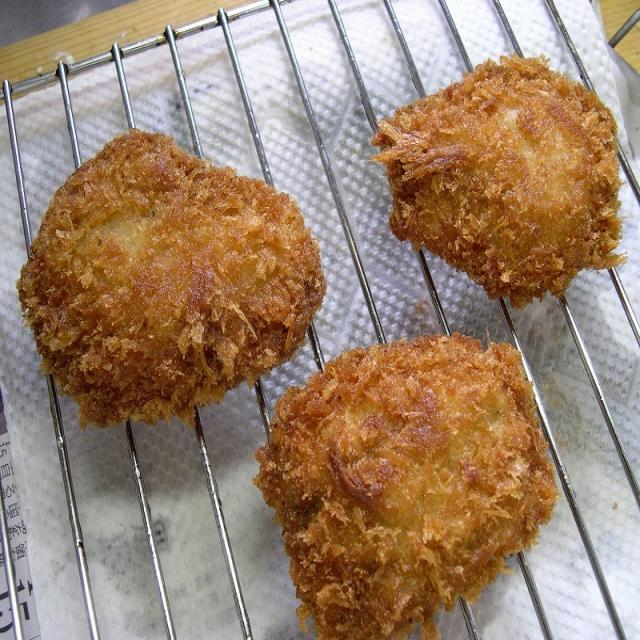炸货点心: (0, 87, 640, 580)
熟制海鲜: (0, 87, 640, 580)
